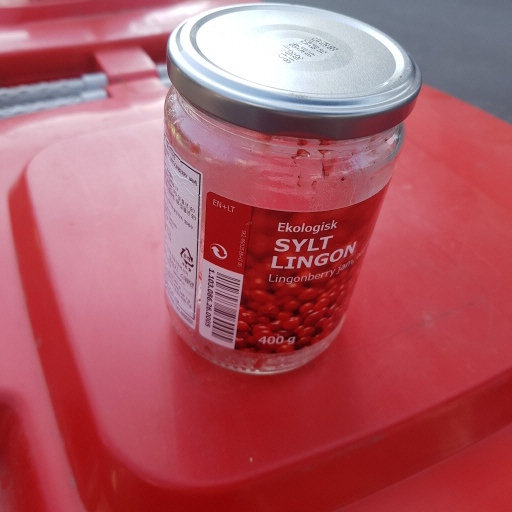Glass_5: (153, 2, 426, 379)
